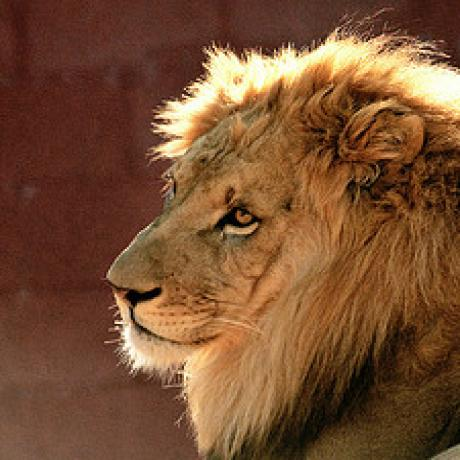Lion: (103, 34, 460, 460)
